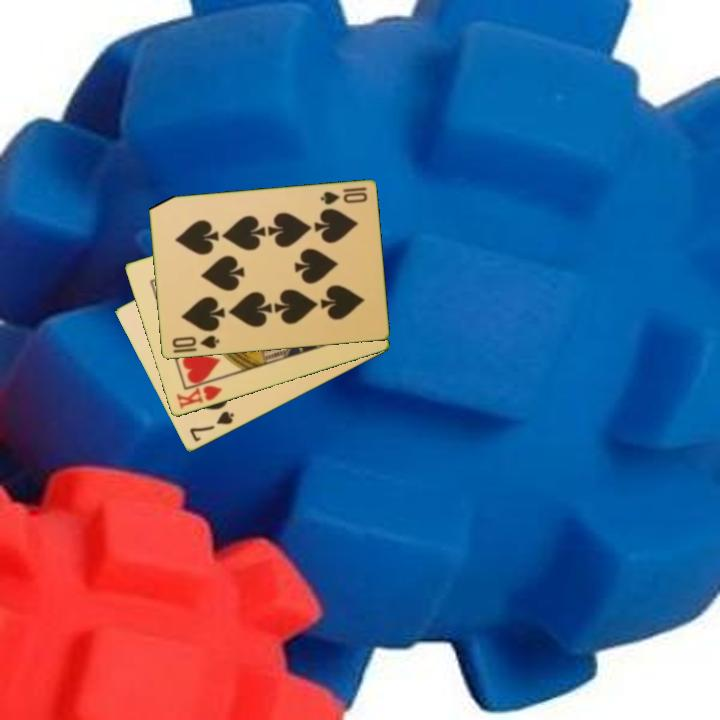10s: (317, 184, 370, 208), (168, 332, 222, 352)
7s: (186, 408, 237, 445)
Kh: (173, 375, 225, 412)
